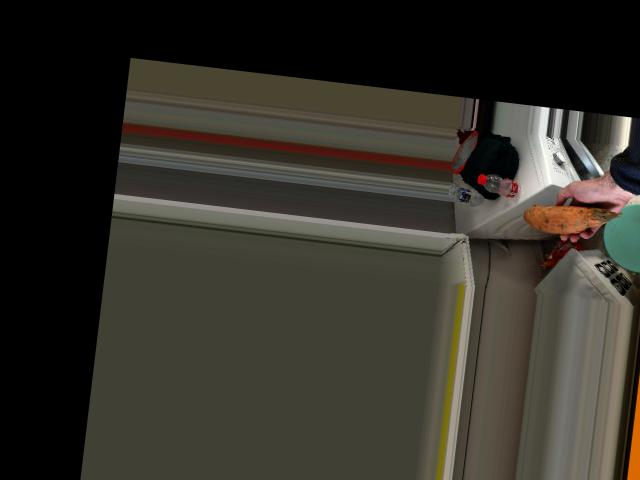sweet_potato: (531, 197, 611, 240)
